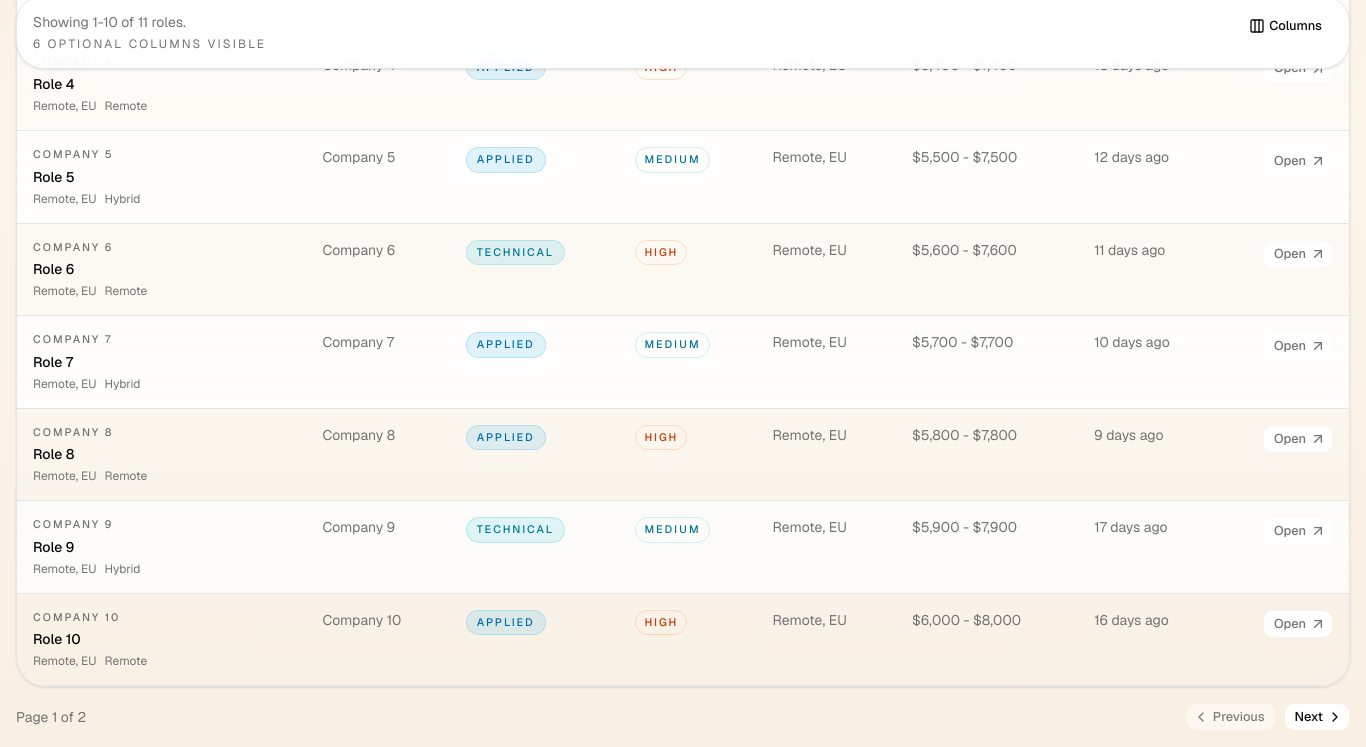
Test: JobsTableView › renders a real table with pagination
(page scrolled)
expect the text "Role 11" is not shown: met
expect the text "Page 1 of 2" is shown: met, box [16,707,86,727]
Click the button with aria-label "Next page": (1317, 717) [1284,703,1350,731]
(page scrolled)
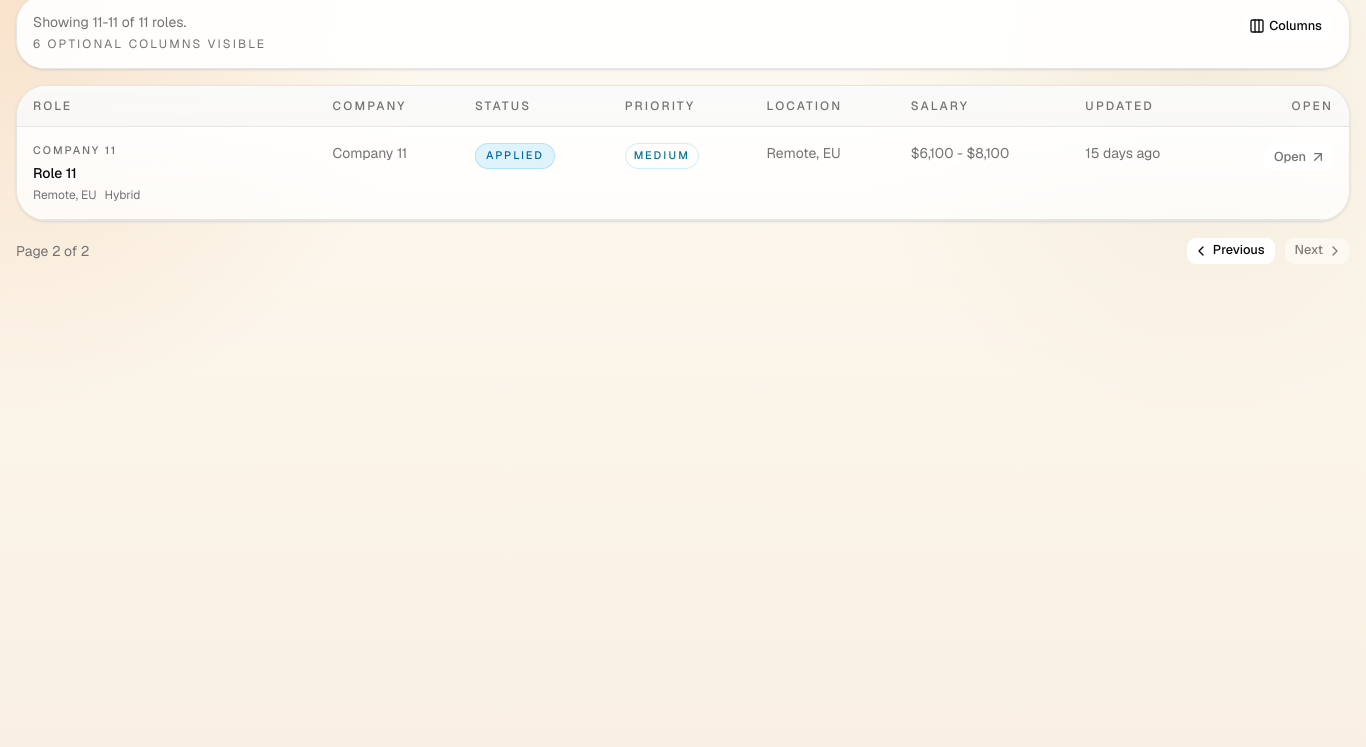
expect the link "Role 11" is shown: met, box [33,164,77,182]
expect the text "Page 2 of 2" is shown: met, box [16,240,89,260]
